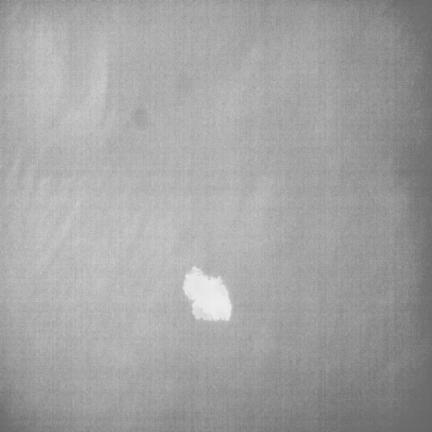flukeprints: (183, 267, 232, 320)
